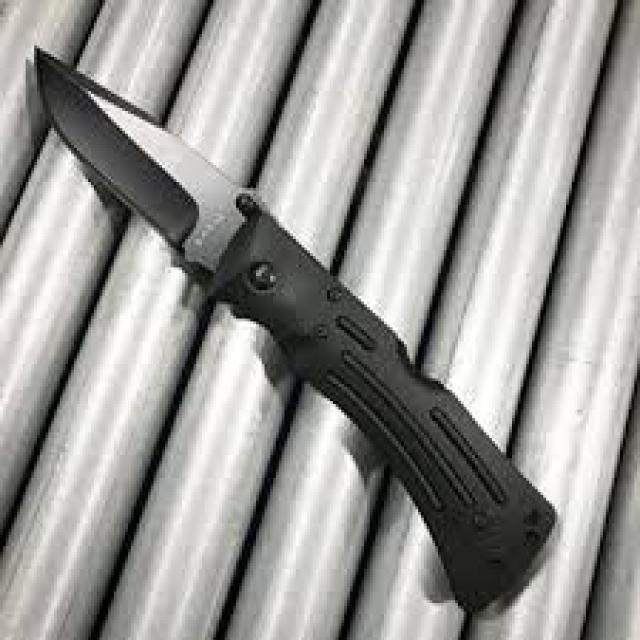knives: (22, 31, 441, 462)
